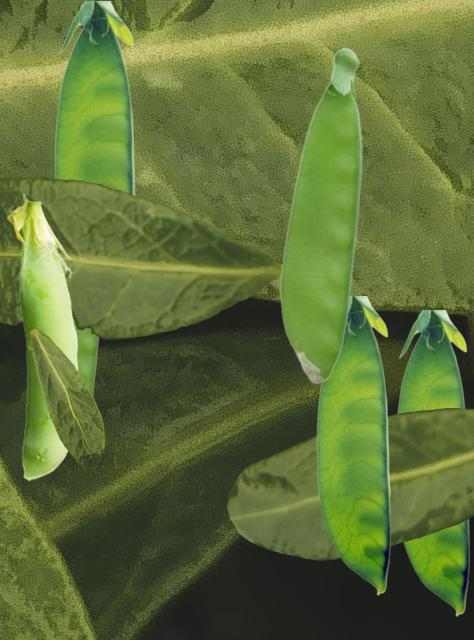pea: (279, 46, 362, 383), (316, 296, 389, 594), (397, 310, 468, 615), (7, 193, 77, 479), (54, 1, 135, 194), (77, 329, 99, 394)
